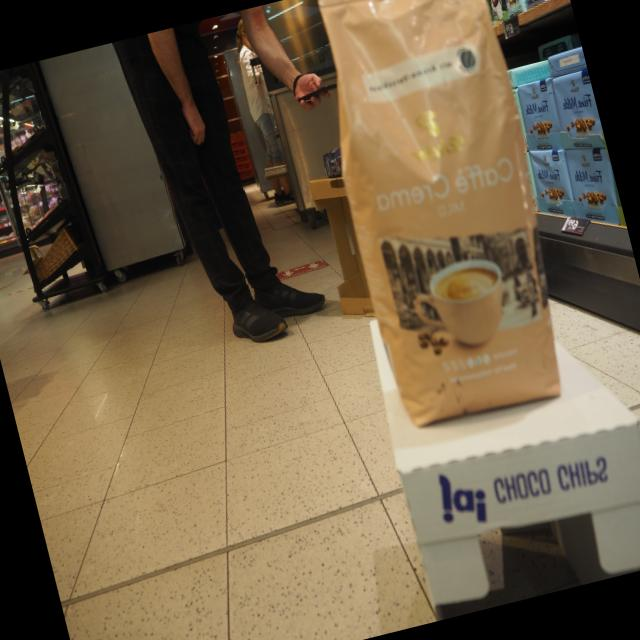CC Mild: (294, 0, 586, 436)
